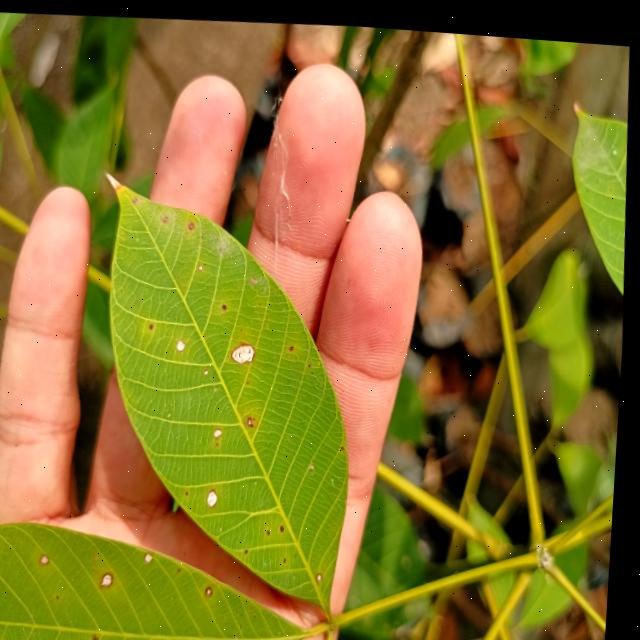Colletotrichum: (211, 484, 225, 502), (108, 569, 120, 584), (180, 334, 190, 348), (48, 552, 56, 561), (212, 582, 219, 590), (252, 412, 258, 421), (191, 218, 197, 226), (323, 566, 329, 574), (201, 260, 206, 266), (286, 519, 291, 525), (208, 365, 213, 370), (226, 299, 230, 305), (153, 320, 157, 325), (251, 544, 255, 548), (294, 340, 297, 344), (273, 524, 276, 528), (221, 439, 223, 441)
Leaf-Blight: (107, 169, 124, 187)
